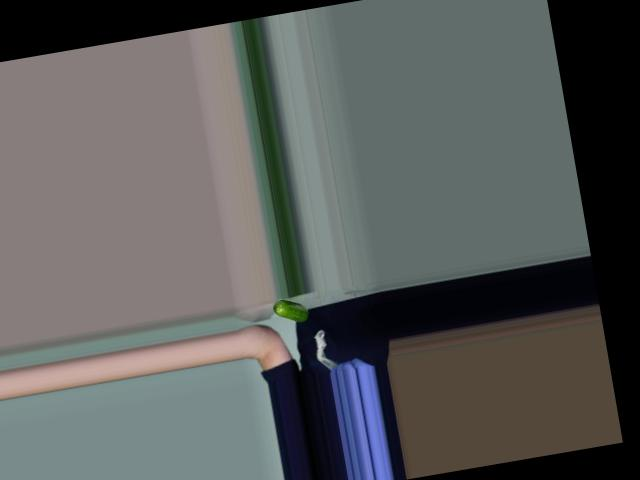cucumber: (271, 295, 309, 325)
